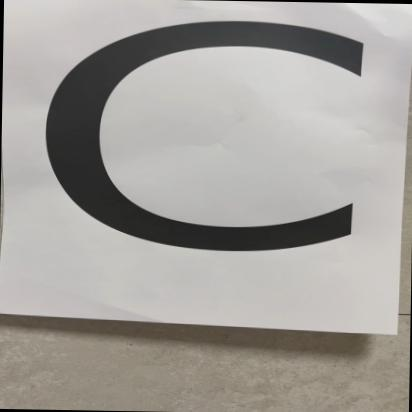seat: (5, 4, 397, 329)
